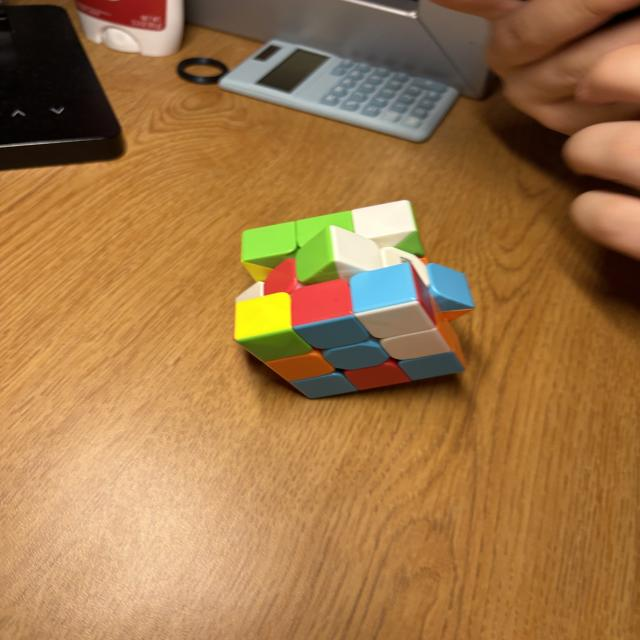Rubiks Cube: (235, 200, 474, 402)
